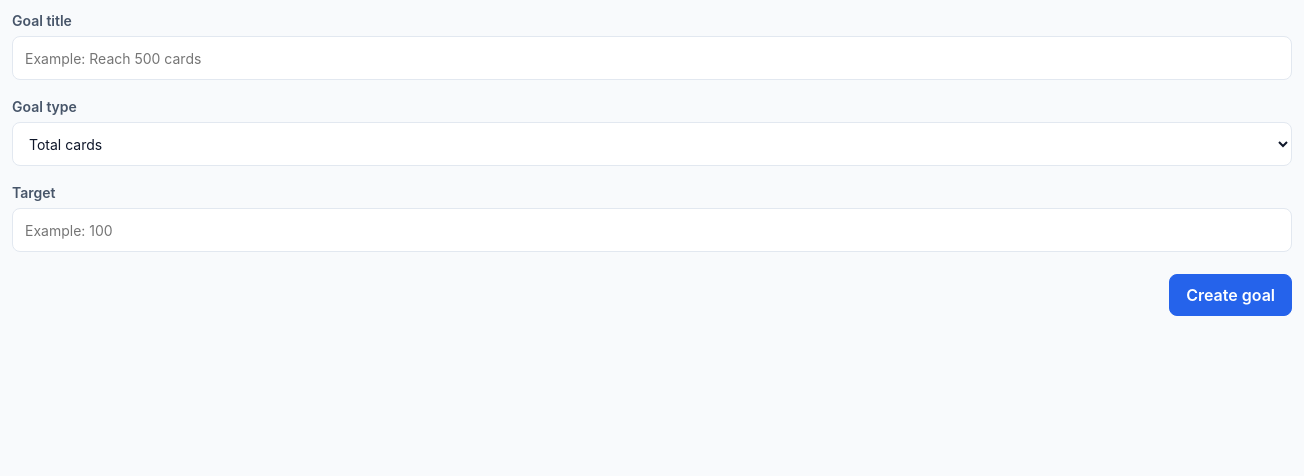
Test: CollectionGoalForm › should require language for language cards goal
Type "Japanese cards" into the field labelled "Goal title" at (652, 58), box [12,36,1292,80]
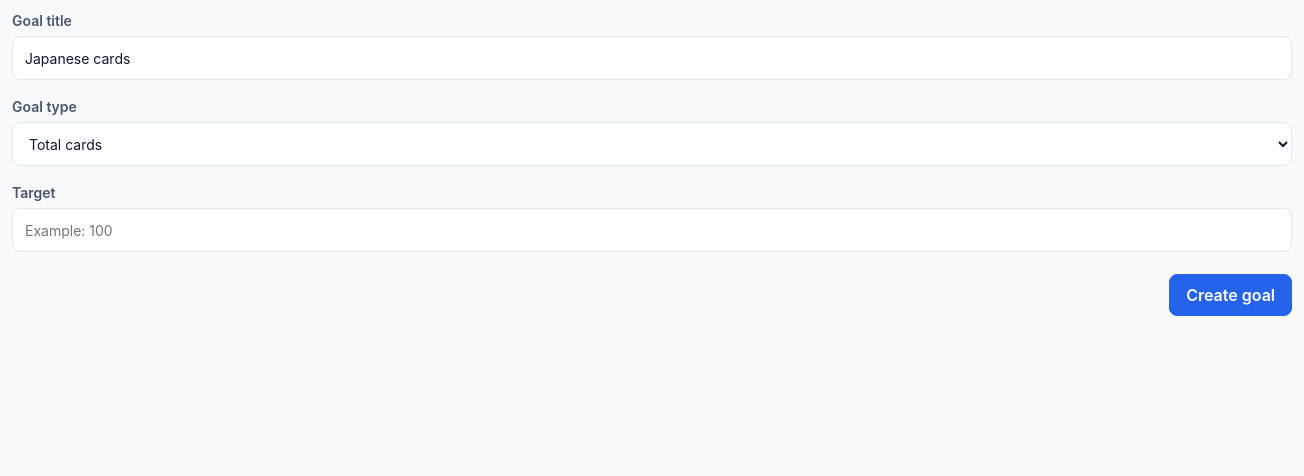
Select "Cards by language" in the dropdown labelled "Goal type" at (652, 144), box [12,122,1292,166]
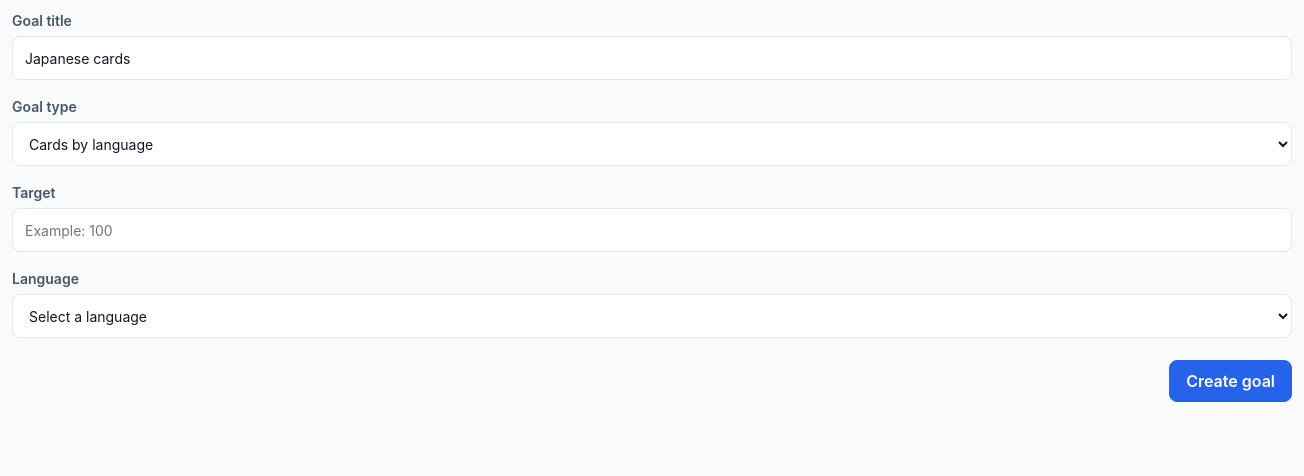
Type "50" into the number field labelled "Target" at (652, 230), box [12,208,1292,252]
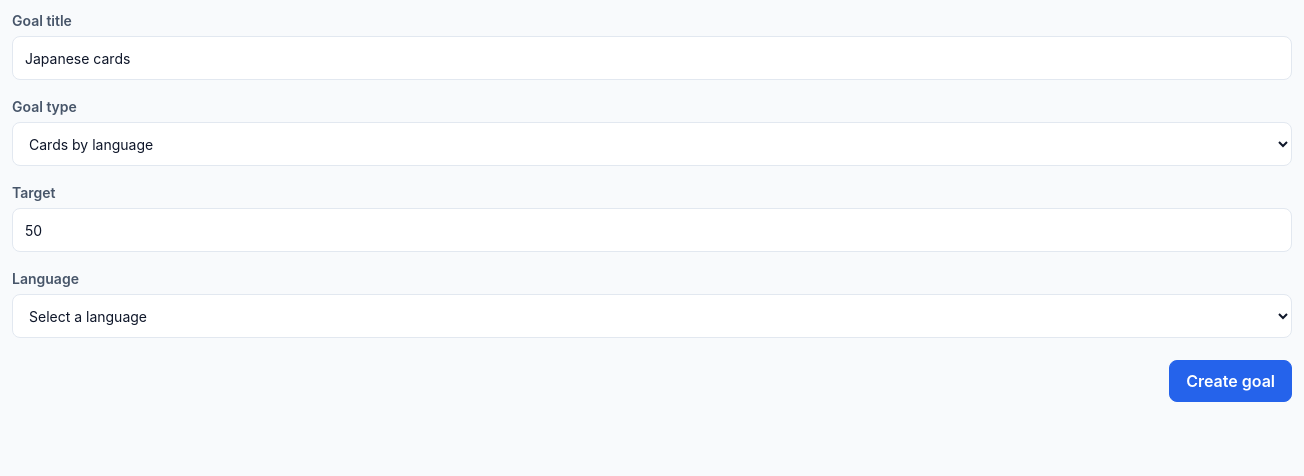
Click the button "Create goal" at (1231, 381), box [1169,360,1292,402]
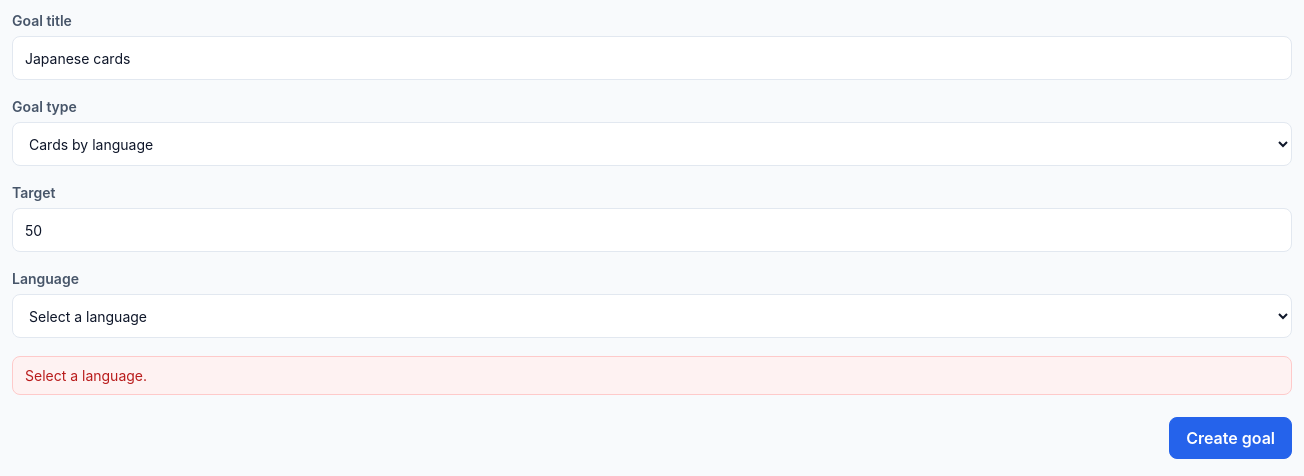
Check: the message reads "Select a language.", box [25,367,147,384]
